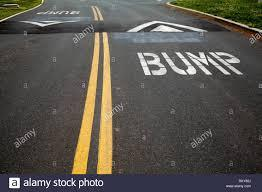Bump: (0, 15, 249, 40)
